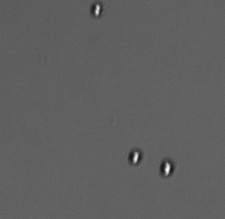Living Cell: (159, 156, 175, 178), (127, 148, 143, 166), (89, 2, 103, 18)
